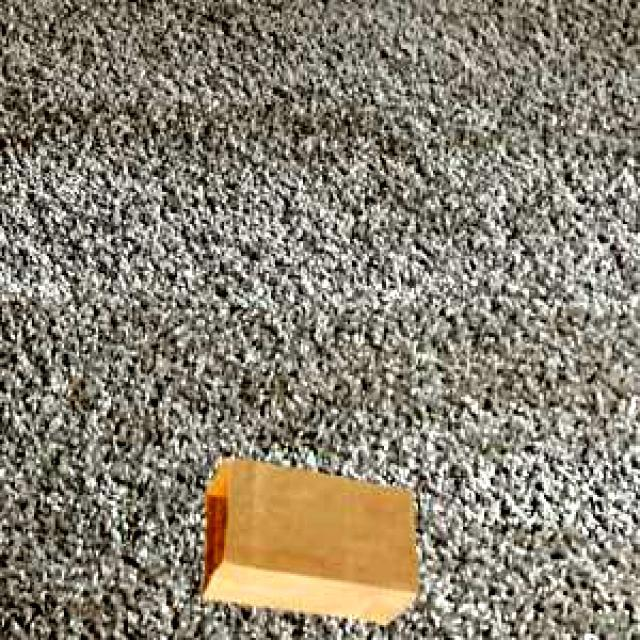Paper_Bag: (199, 455, 415, 620)
